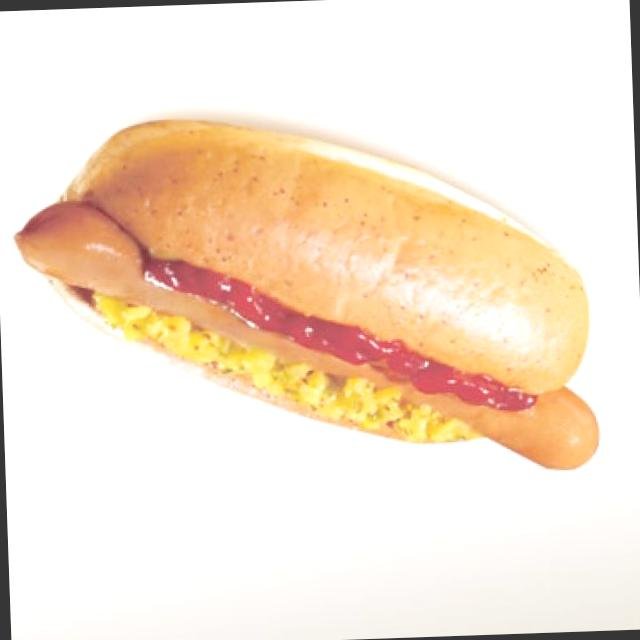Hot Dog: (4, 88, 605, 494)
